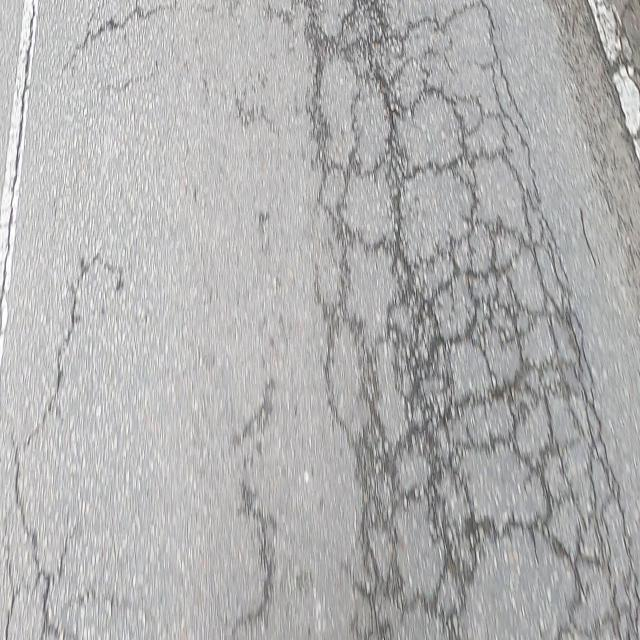Retak-Buaya: (309, 0, 634, 640)
Retak-Melintang: (62, 0, 171, 63)
Retak-Memanjang: (13, 253, 94, 640)
